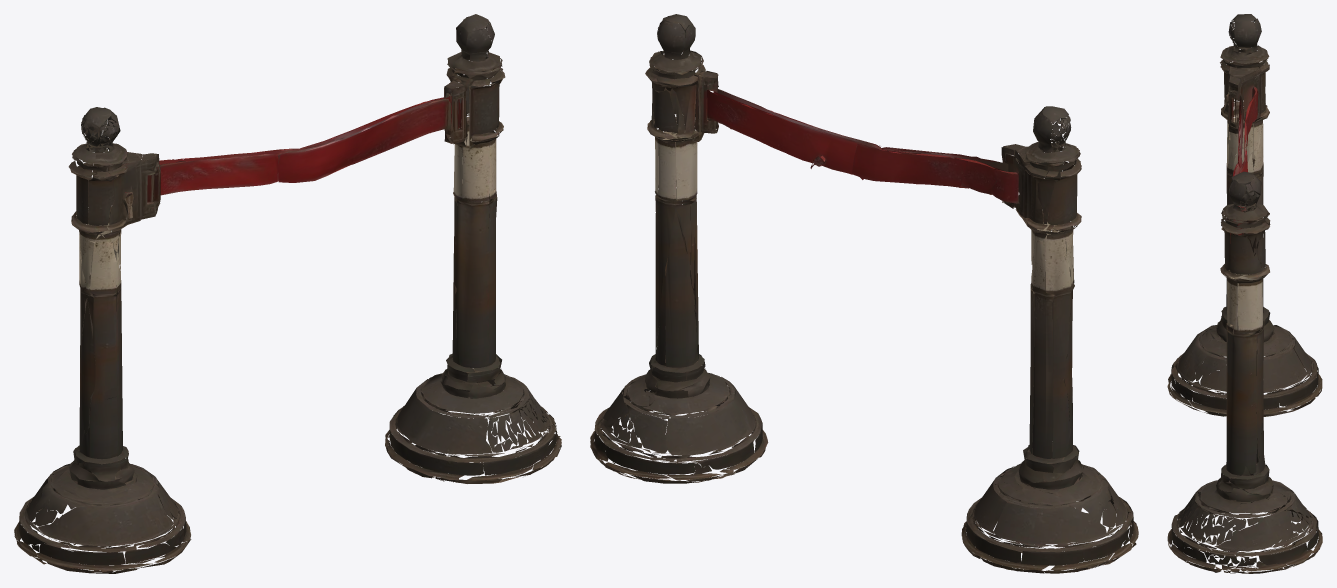
File: ch03_queue_stanchion.glb
3 views of the same model, side by side, from view 1: azimuth 30°, elevation 25°; view 2: azimuth 150°, elevation 25°; view 3: azimuth 270°, elevation 25° (orthographic). The views are drawn at different scales.
Visible parts, largest first — view 1: material; view 2: material; view 3: material.
Part boxes in pixels (x1=…): material: x1=14, y1=14, x2=561, y2=573; material: x1=590, y1=14, x2=1138, y2=573; material: x1=1167, y1=14, x2=1322, y2=573.
Bounding box in the file's own units: 0.9484 × 0.7435 × 0.2821.
Materials: 1 (1 with a texture image).
